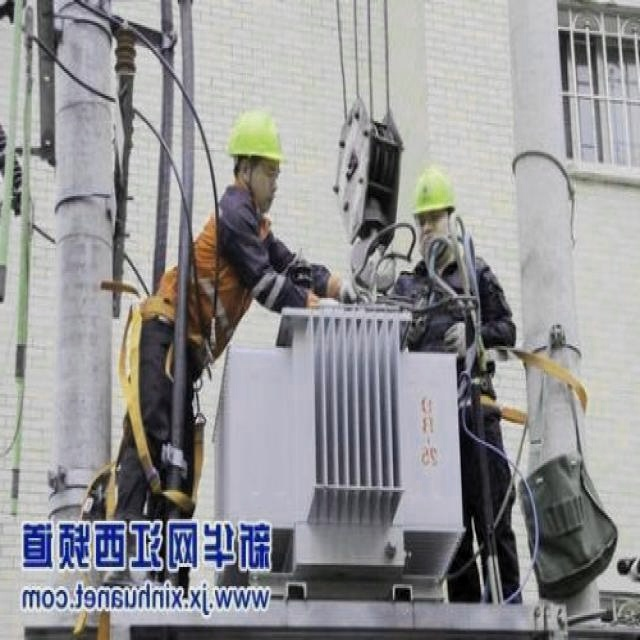Con_Casco: (226, 109, 286, 210), (409, 167, 459, 253)
